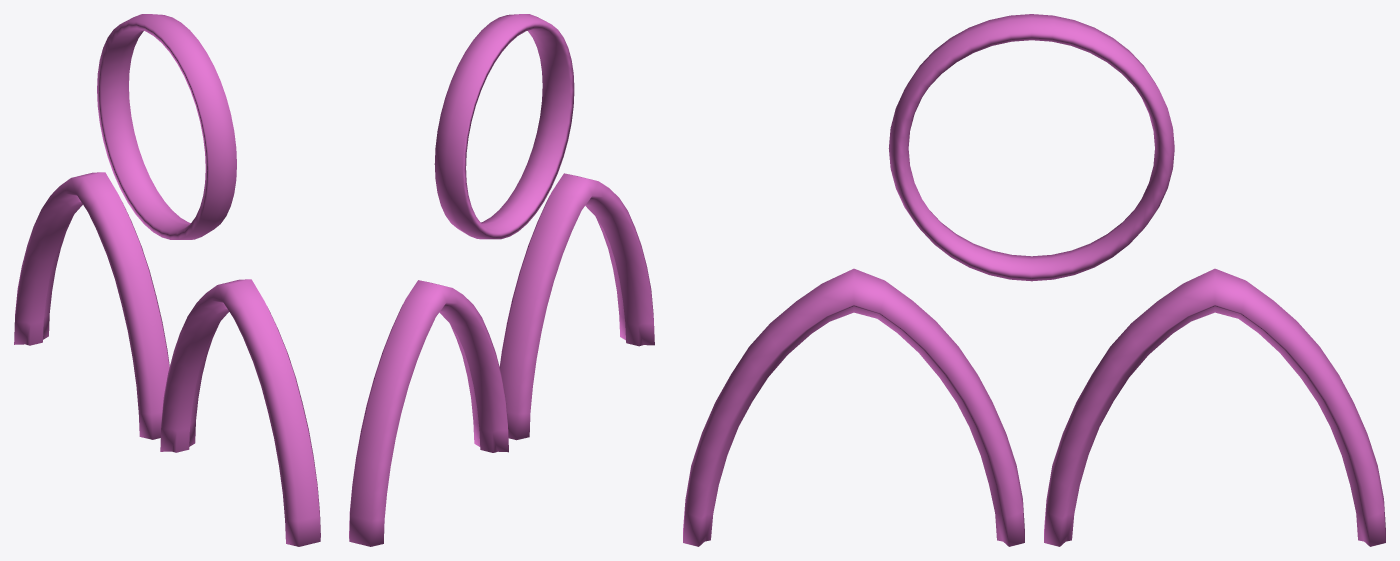
Rendered from Wall_Arc_02C_Lod0.fbx.
3 views of the same model, side by side, from view 1: azimuth 30°, elevation 25°; view 2: azimuth 150°, elevation 25°; view 3: azimuth 270°, elevation 25° (orthographic). The views are drawn at different scales.
Parts seen in each view (by area): view 1: Wall_Arc_02C_Lod0; view 2: Wall_Arc_02C_Lod0; view 3: Wall_Arc_02C_Lod0.
Boxes of the visible parts, <box> form: Wall_Arc_02C_Lod0: <box>14,14,320,546</box>; Wall_Arc_02C_Lod0: <box>349,14,654,546</box>; Wall_Arc_02C_Lod0: <box>683,14,1385,546</box>.
Bounding box in the file's own units: 28.46 × 321 × 395.
